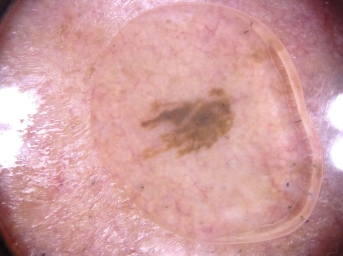seborrheic keratosis: (128, 82, 242, 168)
